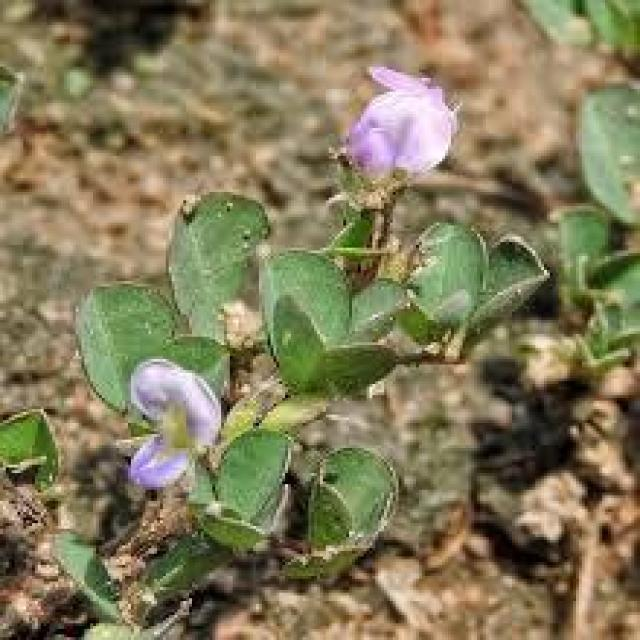organic waste: (332, 60, 462, 177), (114, 356, 221, 493)
